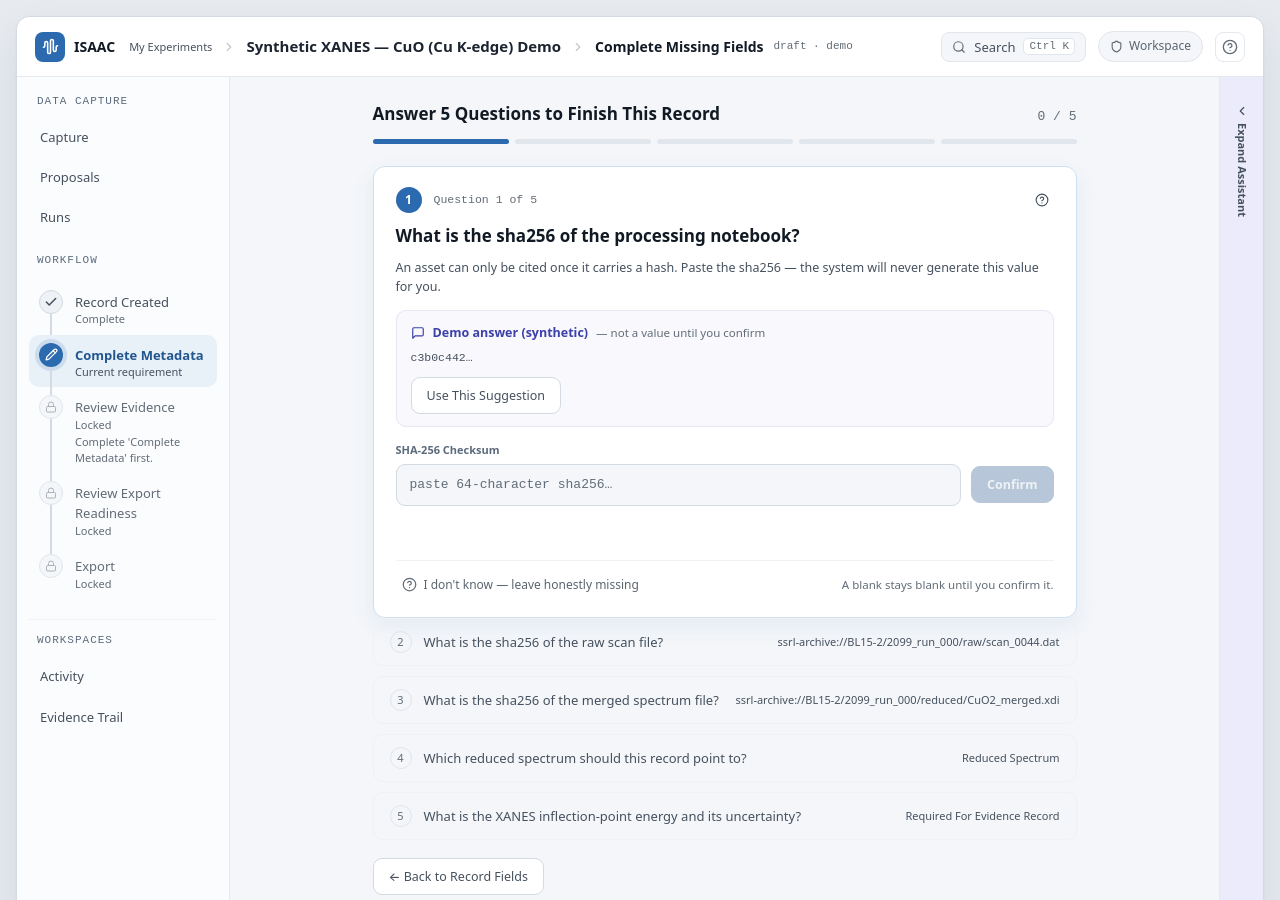
it: R1b · a session-only decision is not presented as a durable review › scopes the skipped list to this visit and says it is not saved
Expected: the heading "What is the sha256 of the processing notebook?" is shown, [396,224,800,247]
Click the button "I don't know — leave honestly missing" at [520, 585], box [396,573,645,597]
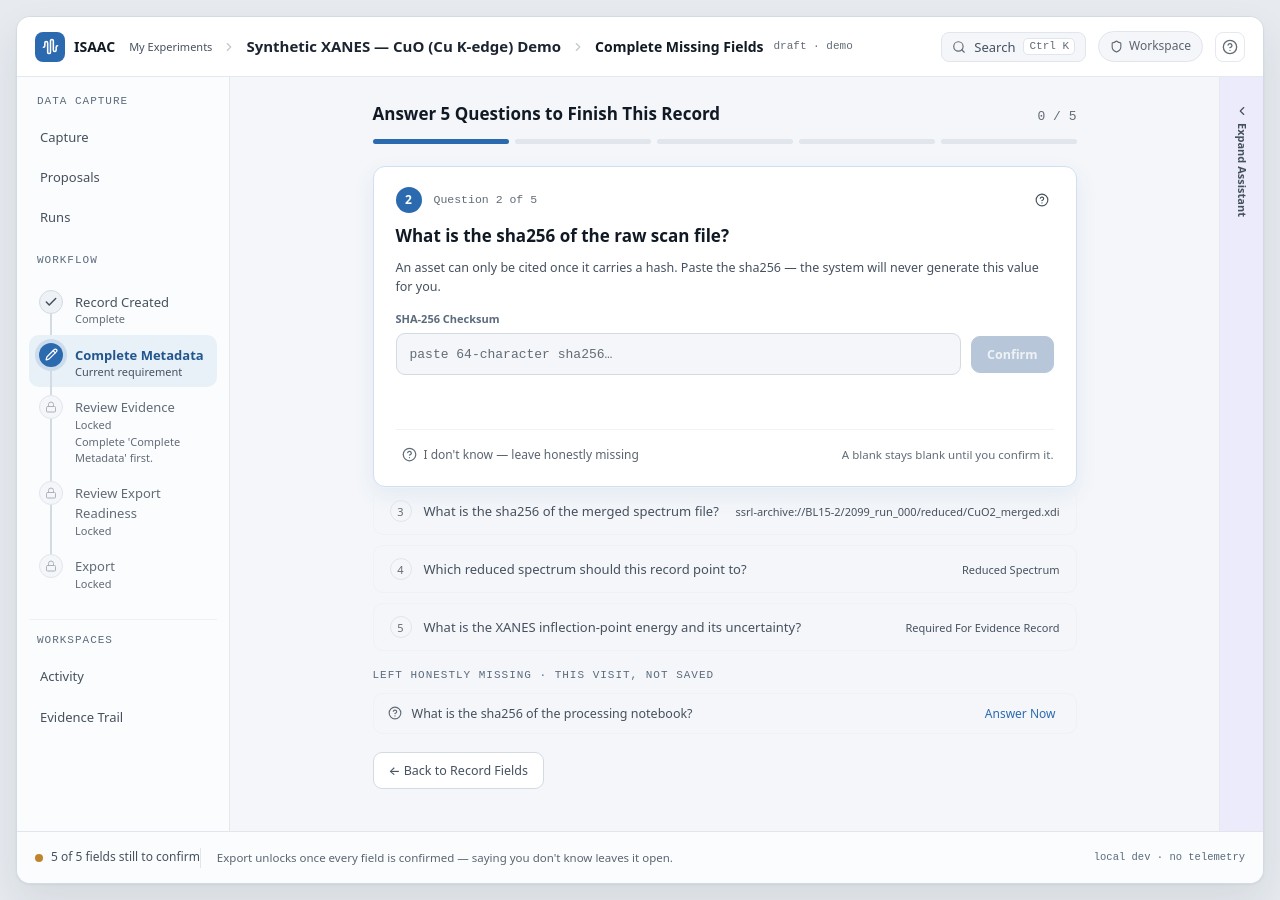
Expected: the heading "What is the sha256 of the raw scan file?" is shown, [396,224,729,247]
Result: the element with class "leftmissing" is shown at [372,668,1076,734]
